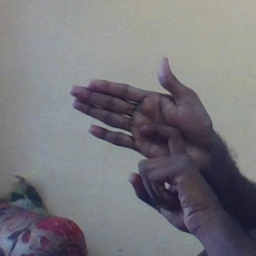R: (68, 57, 219, 212)
